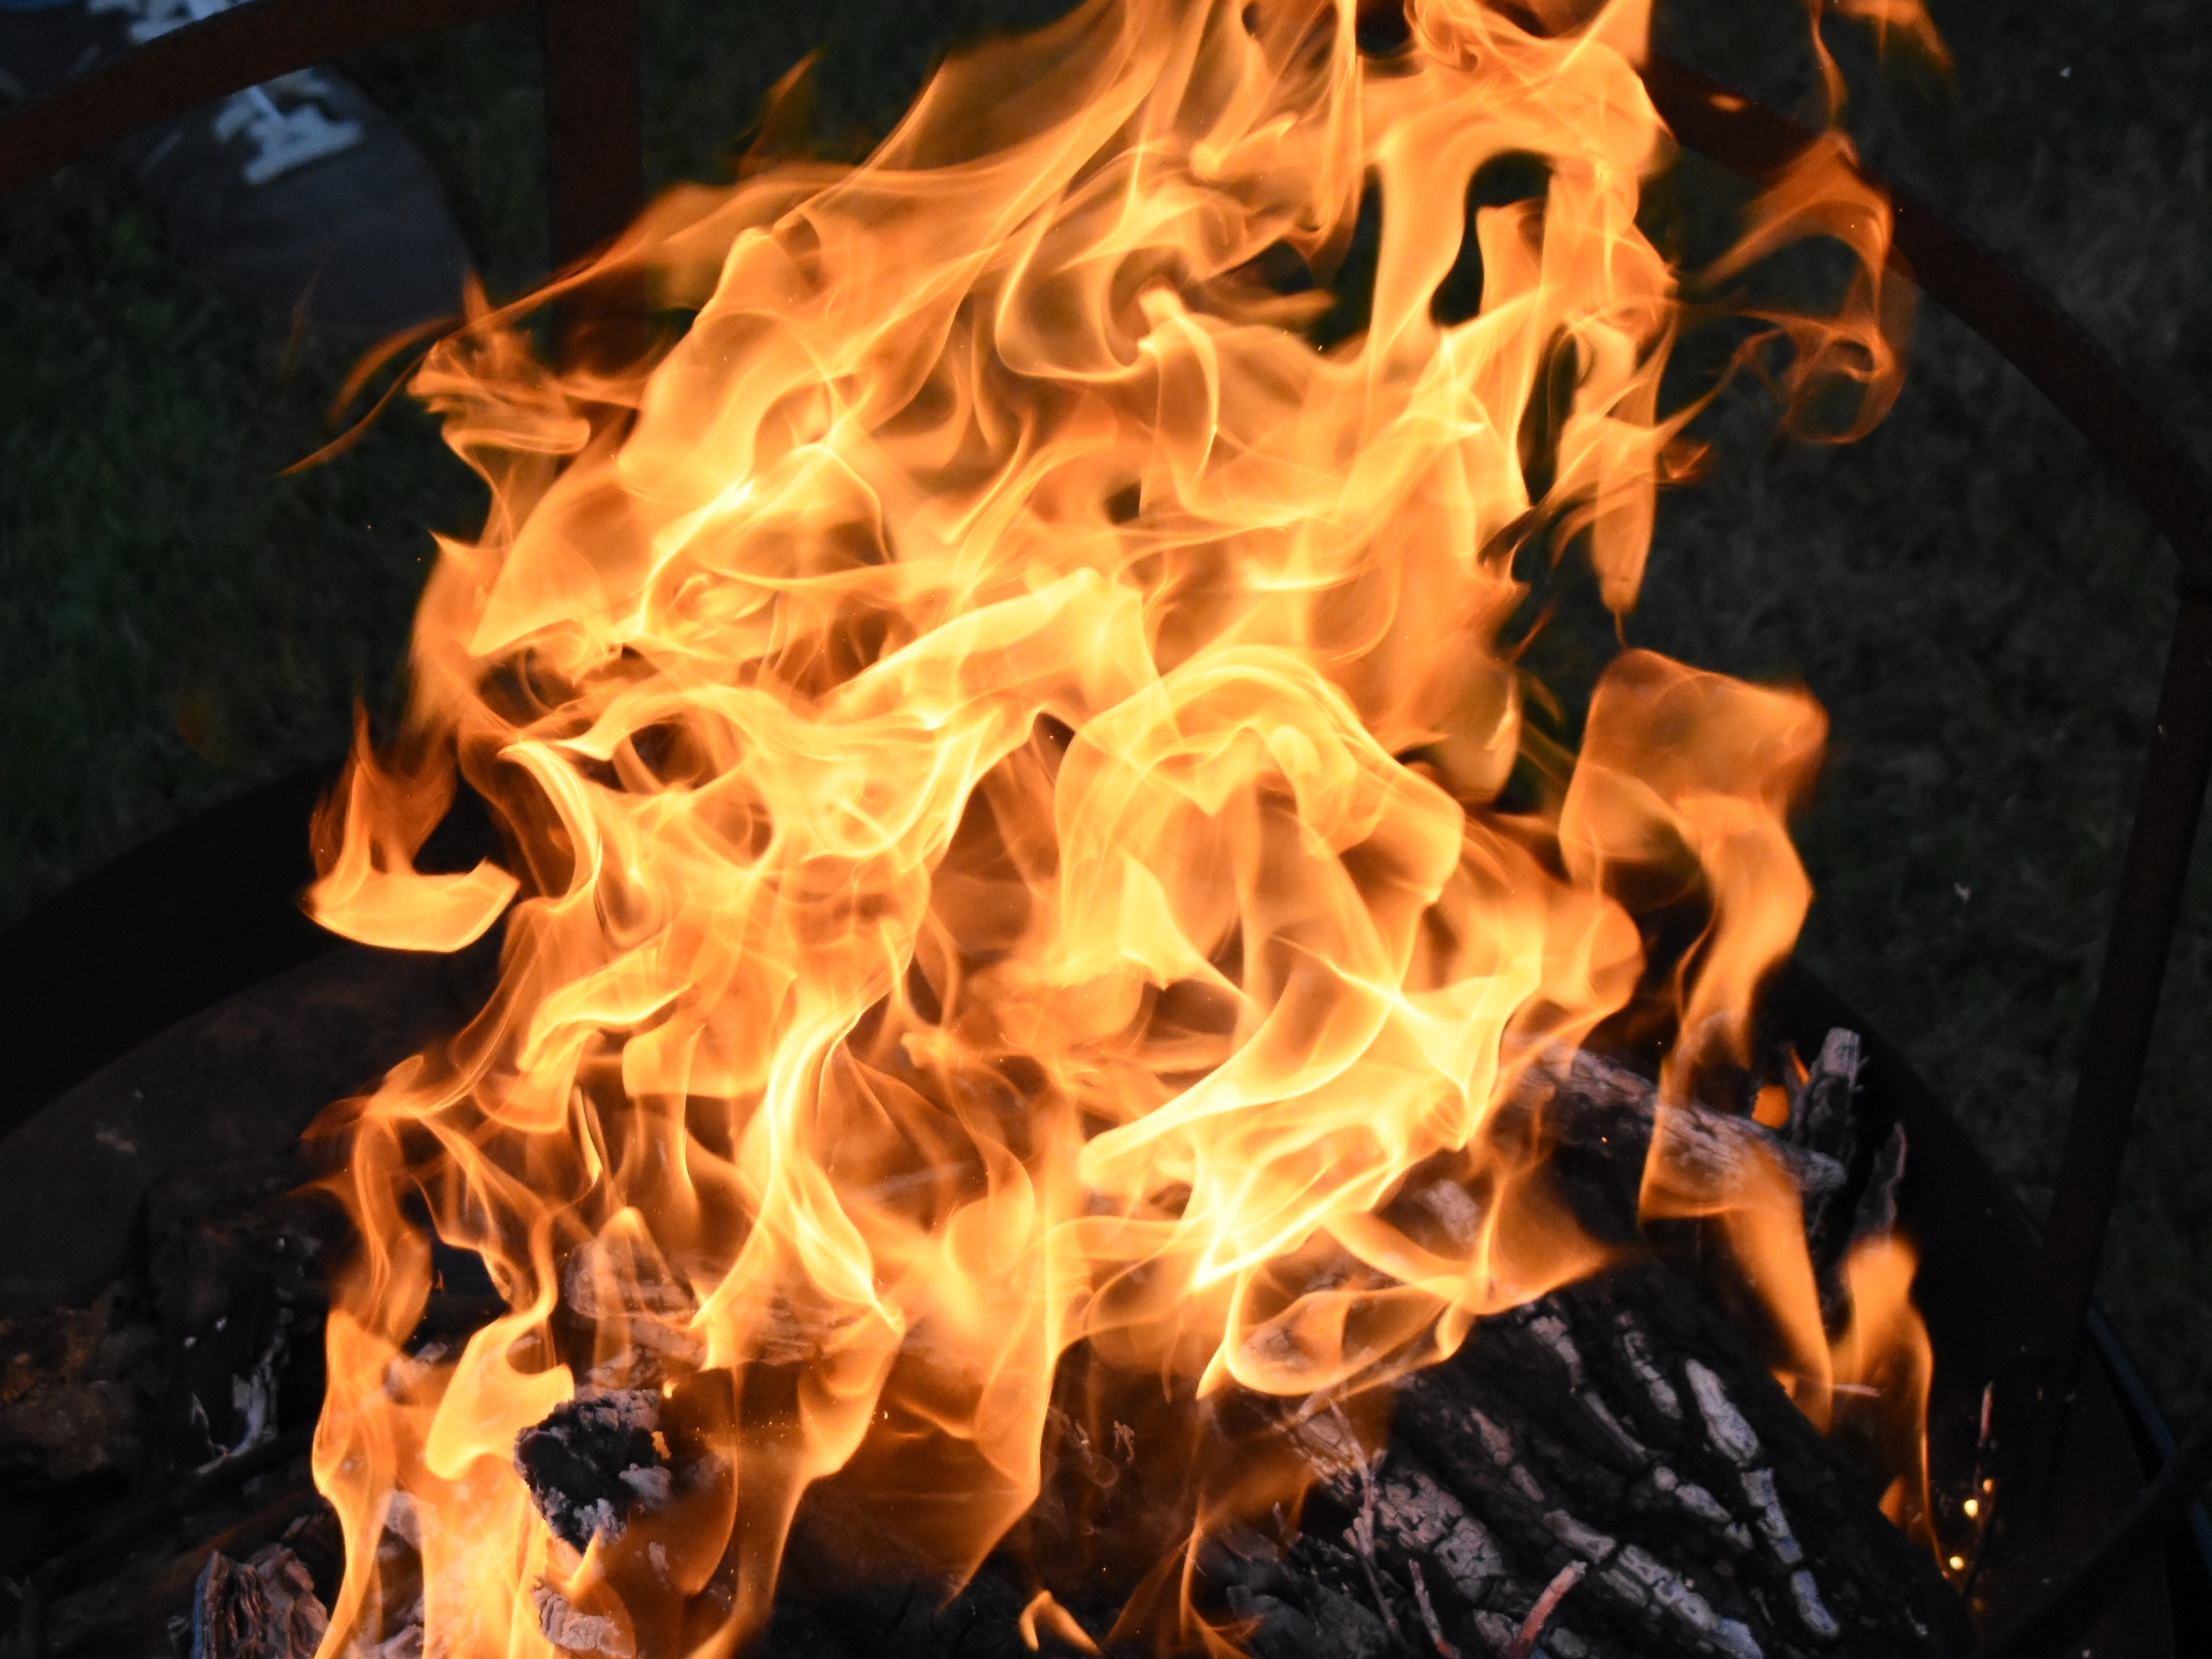fire: (239, 101, 1918, 1497)
